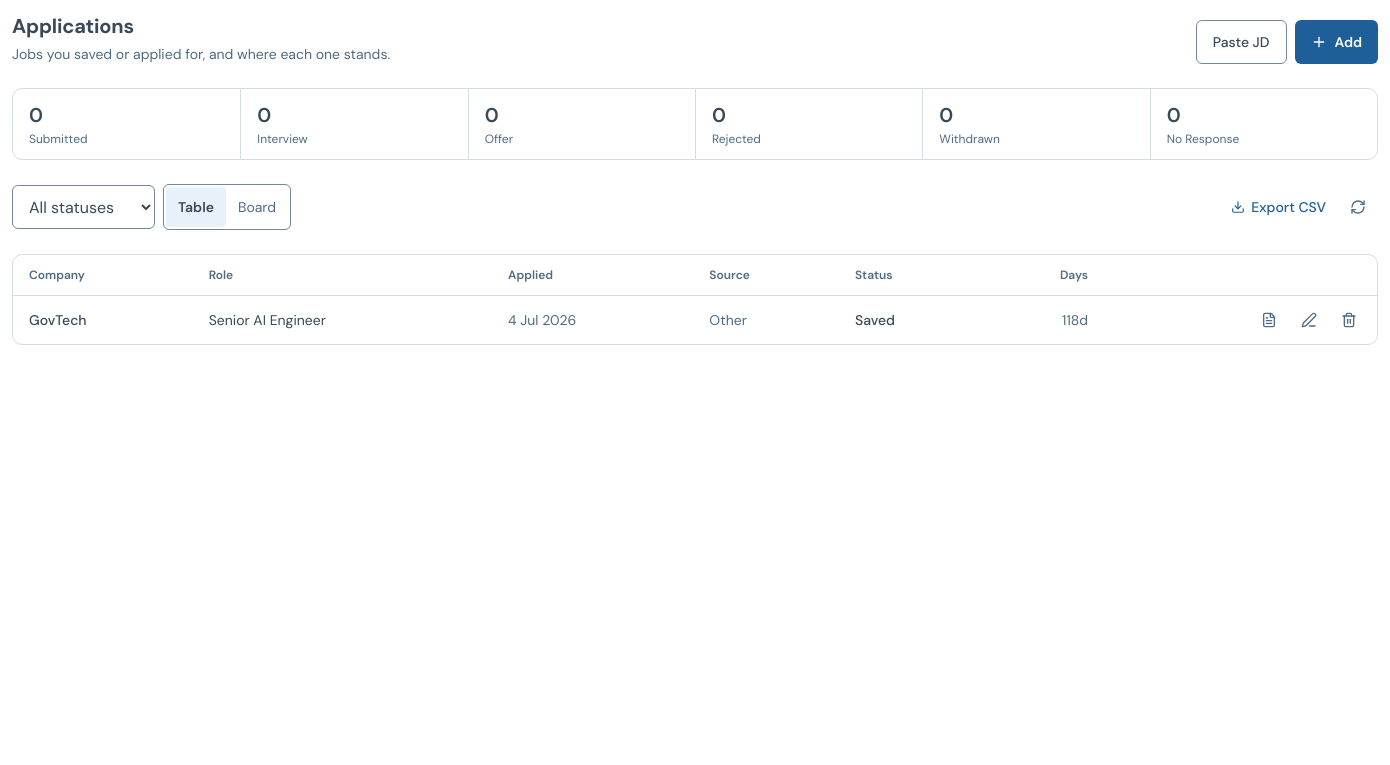
Test case: TrackerTab workspace creation › opens a workspace detail view from a tracked application
This screenshot has width=1390, height=765.
Step 1. Click the button named "Open workspace for GovTech Senior AI Engineer" → [1269, 320], box [1249, 300, 1289, 340]
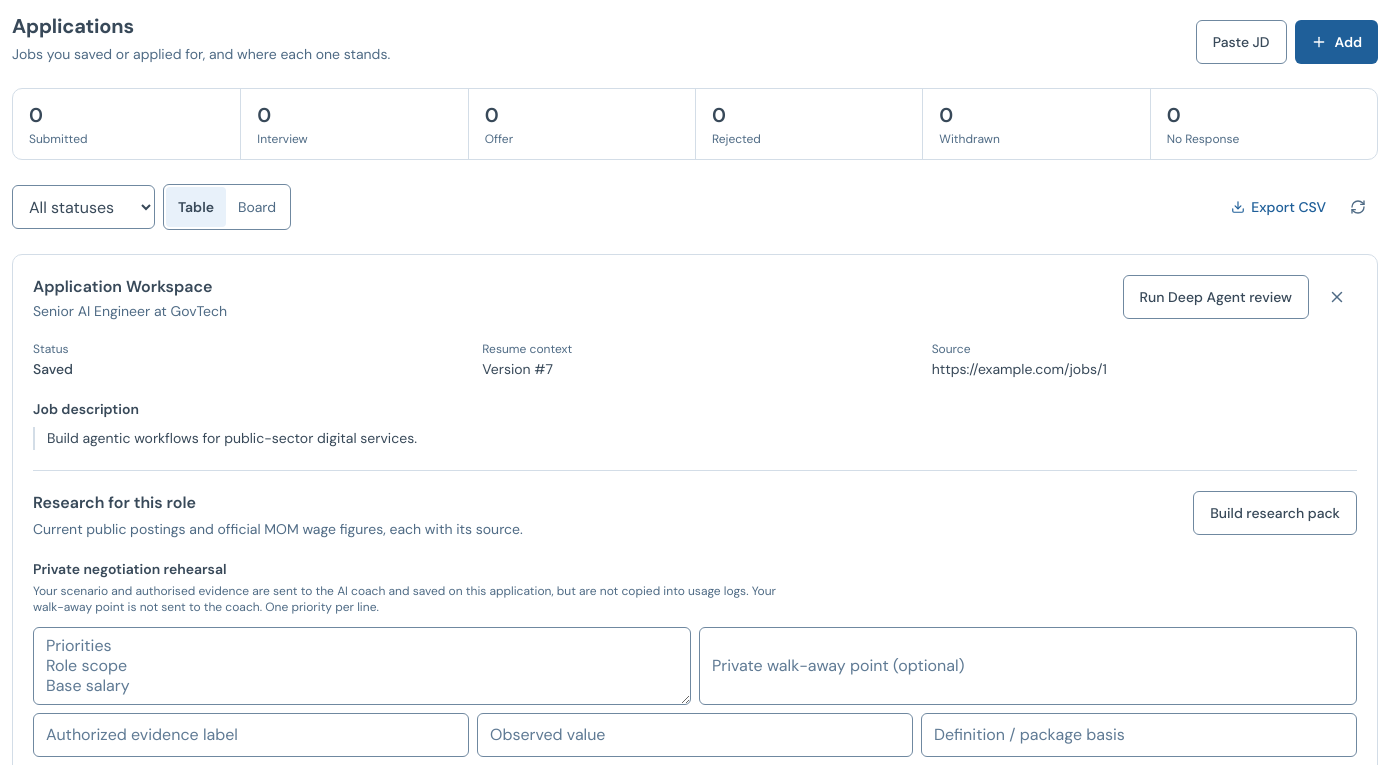
Expected: the text "Application Workspace" is shown, [33, 275, 227, 299]
Expected: the text "Senior AI Engineer at GovTech" is shown, [33, 301, 227, 321]
Expected: the text "Build agentic workflows for public-sector digital services." is shown, [33, 427, 801, 450]
